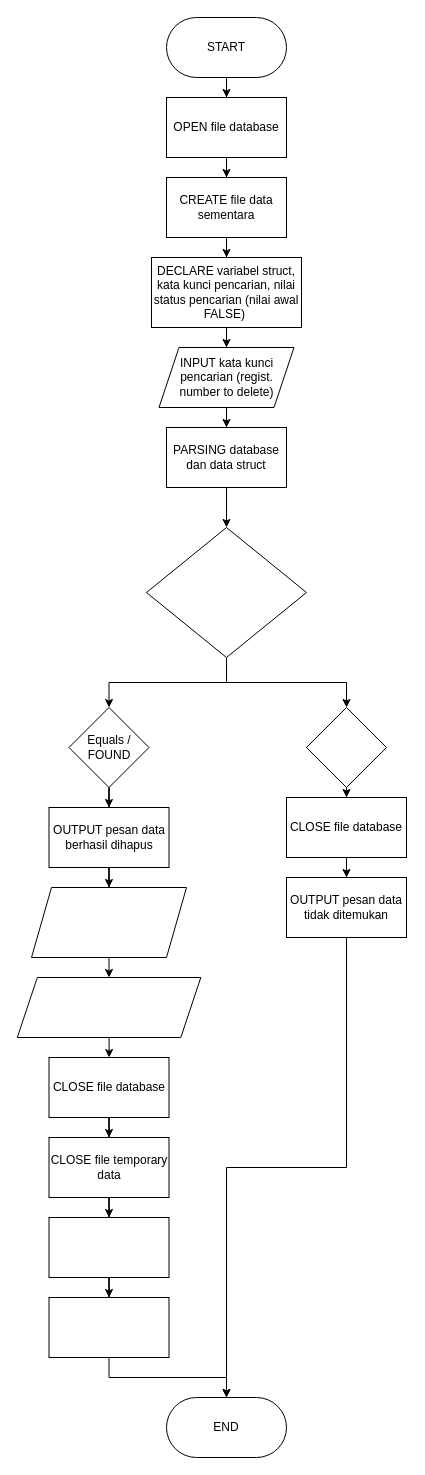
Image size: 425x1475. Some labels were removed from this diagram. Each missing label, with the centre of its shape:
ASSIGN nilai status pencarian TRUE: point 108,922
COMPARE kata kunci dengan data regist number: point 226,592
NOT FOUND: point 346,747
REMOVE file database: point 108,1247
RENAME file temporary data menjadi file database: point 108,1327
WRITE file temporary data dengan data yang NOT Equals: point 108,1007
